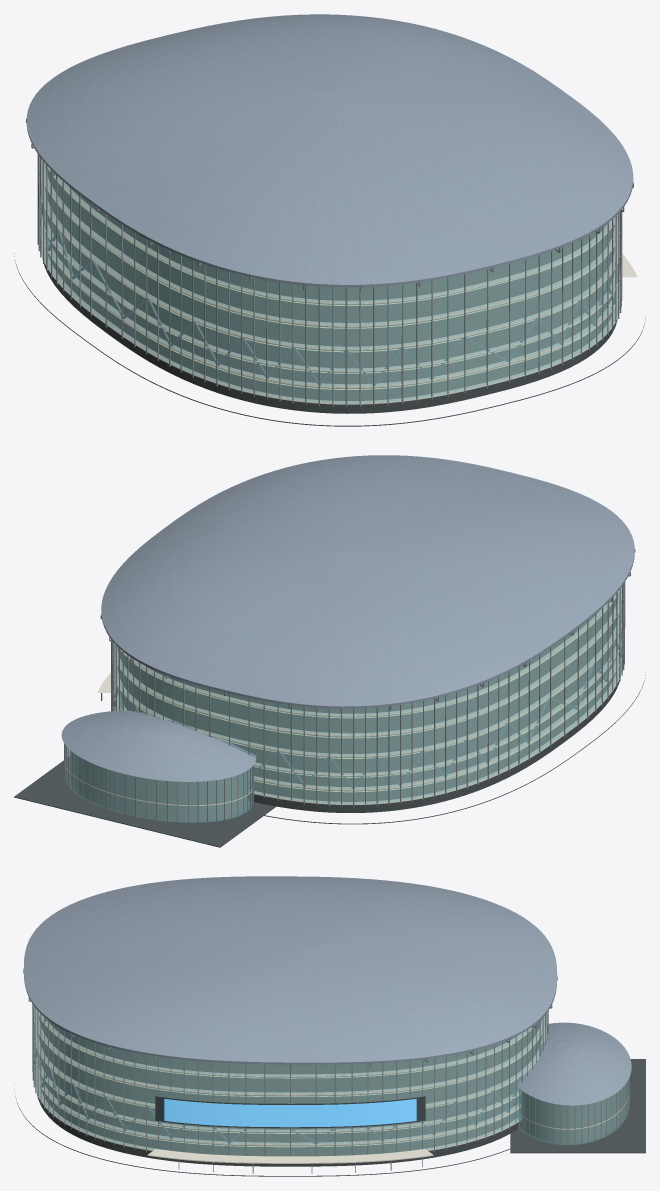
File: shell.glb
3 views of the same model, one above another, from view 1: azimuth 30°, elevation 25°; view 2: azimuth 150°, elevation 25°; view 3: azimuth 270°, elevation 25° (orthographic). The views are drawn at different scales.
Visible parts, largest first — view 1: shell_roof_canopy, shell_bowl_mass_curtain_wall, shell_bowl_mass_enclosure, shell_bowl_mass_facade_panels, shell_bowl_mass_facade_frames, shell_roof_canopy_seams, shell_bowl_mass_plinth, shell_vomitories_static, shell_field_floor_plaza; view 2: shell_roof_canopy, shell_bowl_mass_curtain_wall, shell_bowl_mass_enclosure, shell_bowl_mass_facade_frames, shell_bowl_mass_facade_panels, shell_roof_canopy_seams, shell_bowl_mass_enclosure_annex, shell_field_floor_plaza, shell_bowl_mass_plinth, shell_vomitories_static; view 3: shell_roof_canopy, shell_bowl_mass_curtain_wall, shell_bowl_mass_enclosure, shell_bowl_mass_facade_panels, shell_bowl_mass_facade_frames, shell_roof_canopy_seams, shell_ribbon_led_facade, shell_field_floor_plaza, shell_bowl_mass_enclosure_annex, shell_bowl_mass_plinth, shell_vomitories_static, shell_ribbon_led_housing.
Part boxes in pixels (x1,y1,x2,y2): shell_roof_canopy: (26,14,633,287); shell_bowl_mass_curtain_wall: (39,157,619,403); shell_bowl_mass_enclosure: (45,165,614,400); shell_bowl_mass_facade_panels: (39,159,637,404); shell_bowl_mass_facade_frames: (37,154,622,406); shell_roof_canopy_seams: (27,14,632,284); shell_bowl_mass_plinth: (42,258,617,413); shell_vomitories_static: (72,198,600,389); shell_field_floor_plaza: (14,253,645,426); shell_roof_canopy: (61,455,634,781); shell_bowl_mass_curtain_wall: (65,585,623,822); shell_bowl_mass_enclosure: (118,599,618,801); shell_bowl_mass_facade_frames: (64,582,625,822); shell_bowl_mass_facade_panels: (64,587,623,805); shell_roof_canopy_seams: (102,455,633,706); shell_bowl_mass_enclosure_annex: (71,751,246,821); shell_field_floor_plaza: (14,672,645,847); shell_bowl_mass_plinth: (248,680,619,812); shell_vomitories_static: (130,627,592,791); shell_roof_canopy: (23,876,631,1105); shell_bowl_mass_curtain_wall: (33,1005,629,1156); shell_bowl_mass_enclosure: (39,1017,541,1155); shell_bowl_mass_facade_panels: (33,1007,629,1163); shell_bowl_mass_facade_frames: (32,1004,630,1173); shell_roof_canopy_seams: (25,876,556,1062); shell_ribbon_led_facade: (164,1099,416,1127); shell_field_floor_plaza: (14,1059,645,1176); shell_bowl_mass_enclosure_annex: (520,1084,625,1142); shell_bowl_mass_plinth: (36,1093,520,1166); shell_vomitories_static: (51,1035,529,1146); shell_ribbon_led_housing: (155,1096,425,1128).
Size of the model in its own units: 129 by 43.88 by 177.
